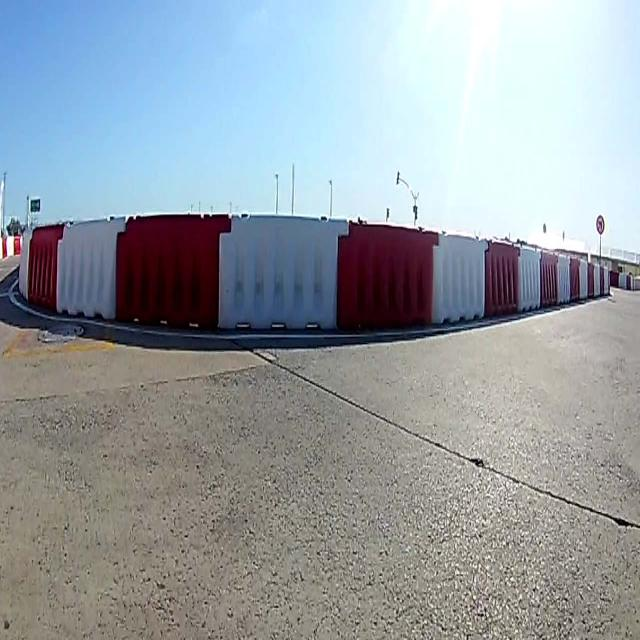soladonulmez: (595, 212, 605, 238)
